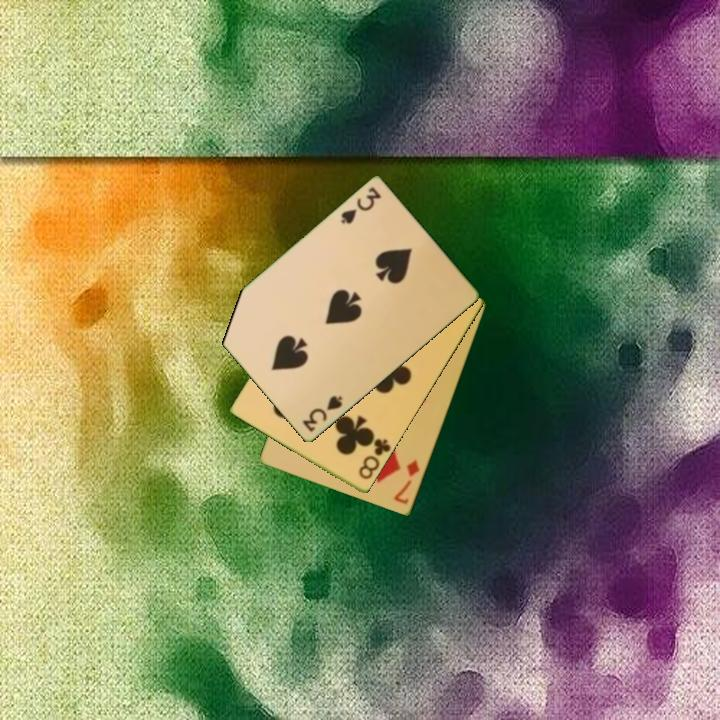3s: (337, 184, 384, 227), (299, 392, 345, 435)
7d: (391, 456, 423, 507)
8c: (355, 432, 394, 483)
